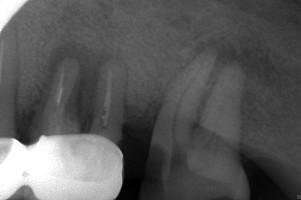Dental Caries: (48, 38, 121, 132)
Furcation Involvement: (193, 37, 279, 94)
